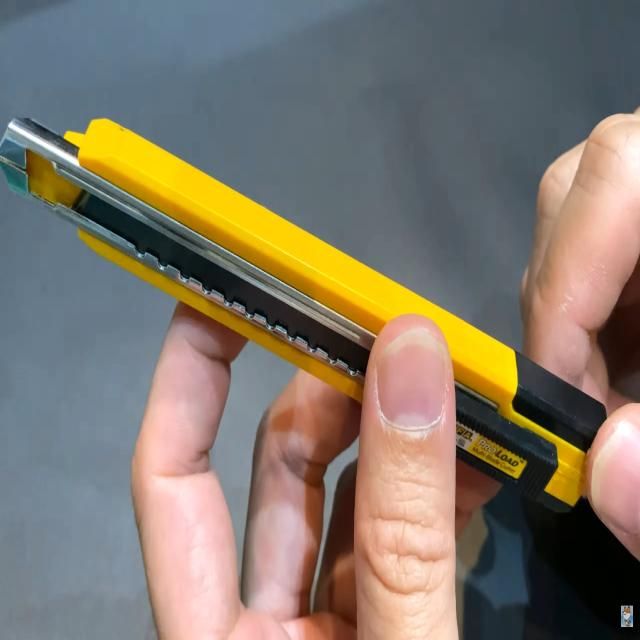cutter: (1, 87, 640, 563)
